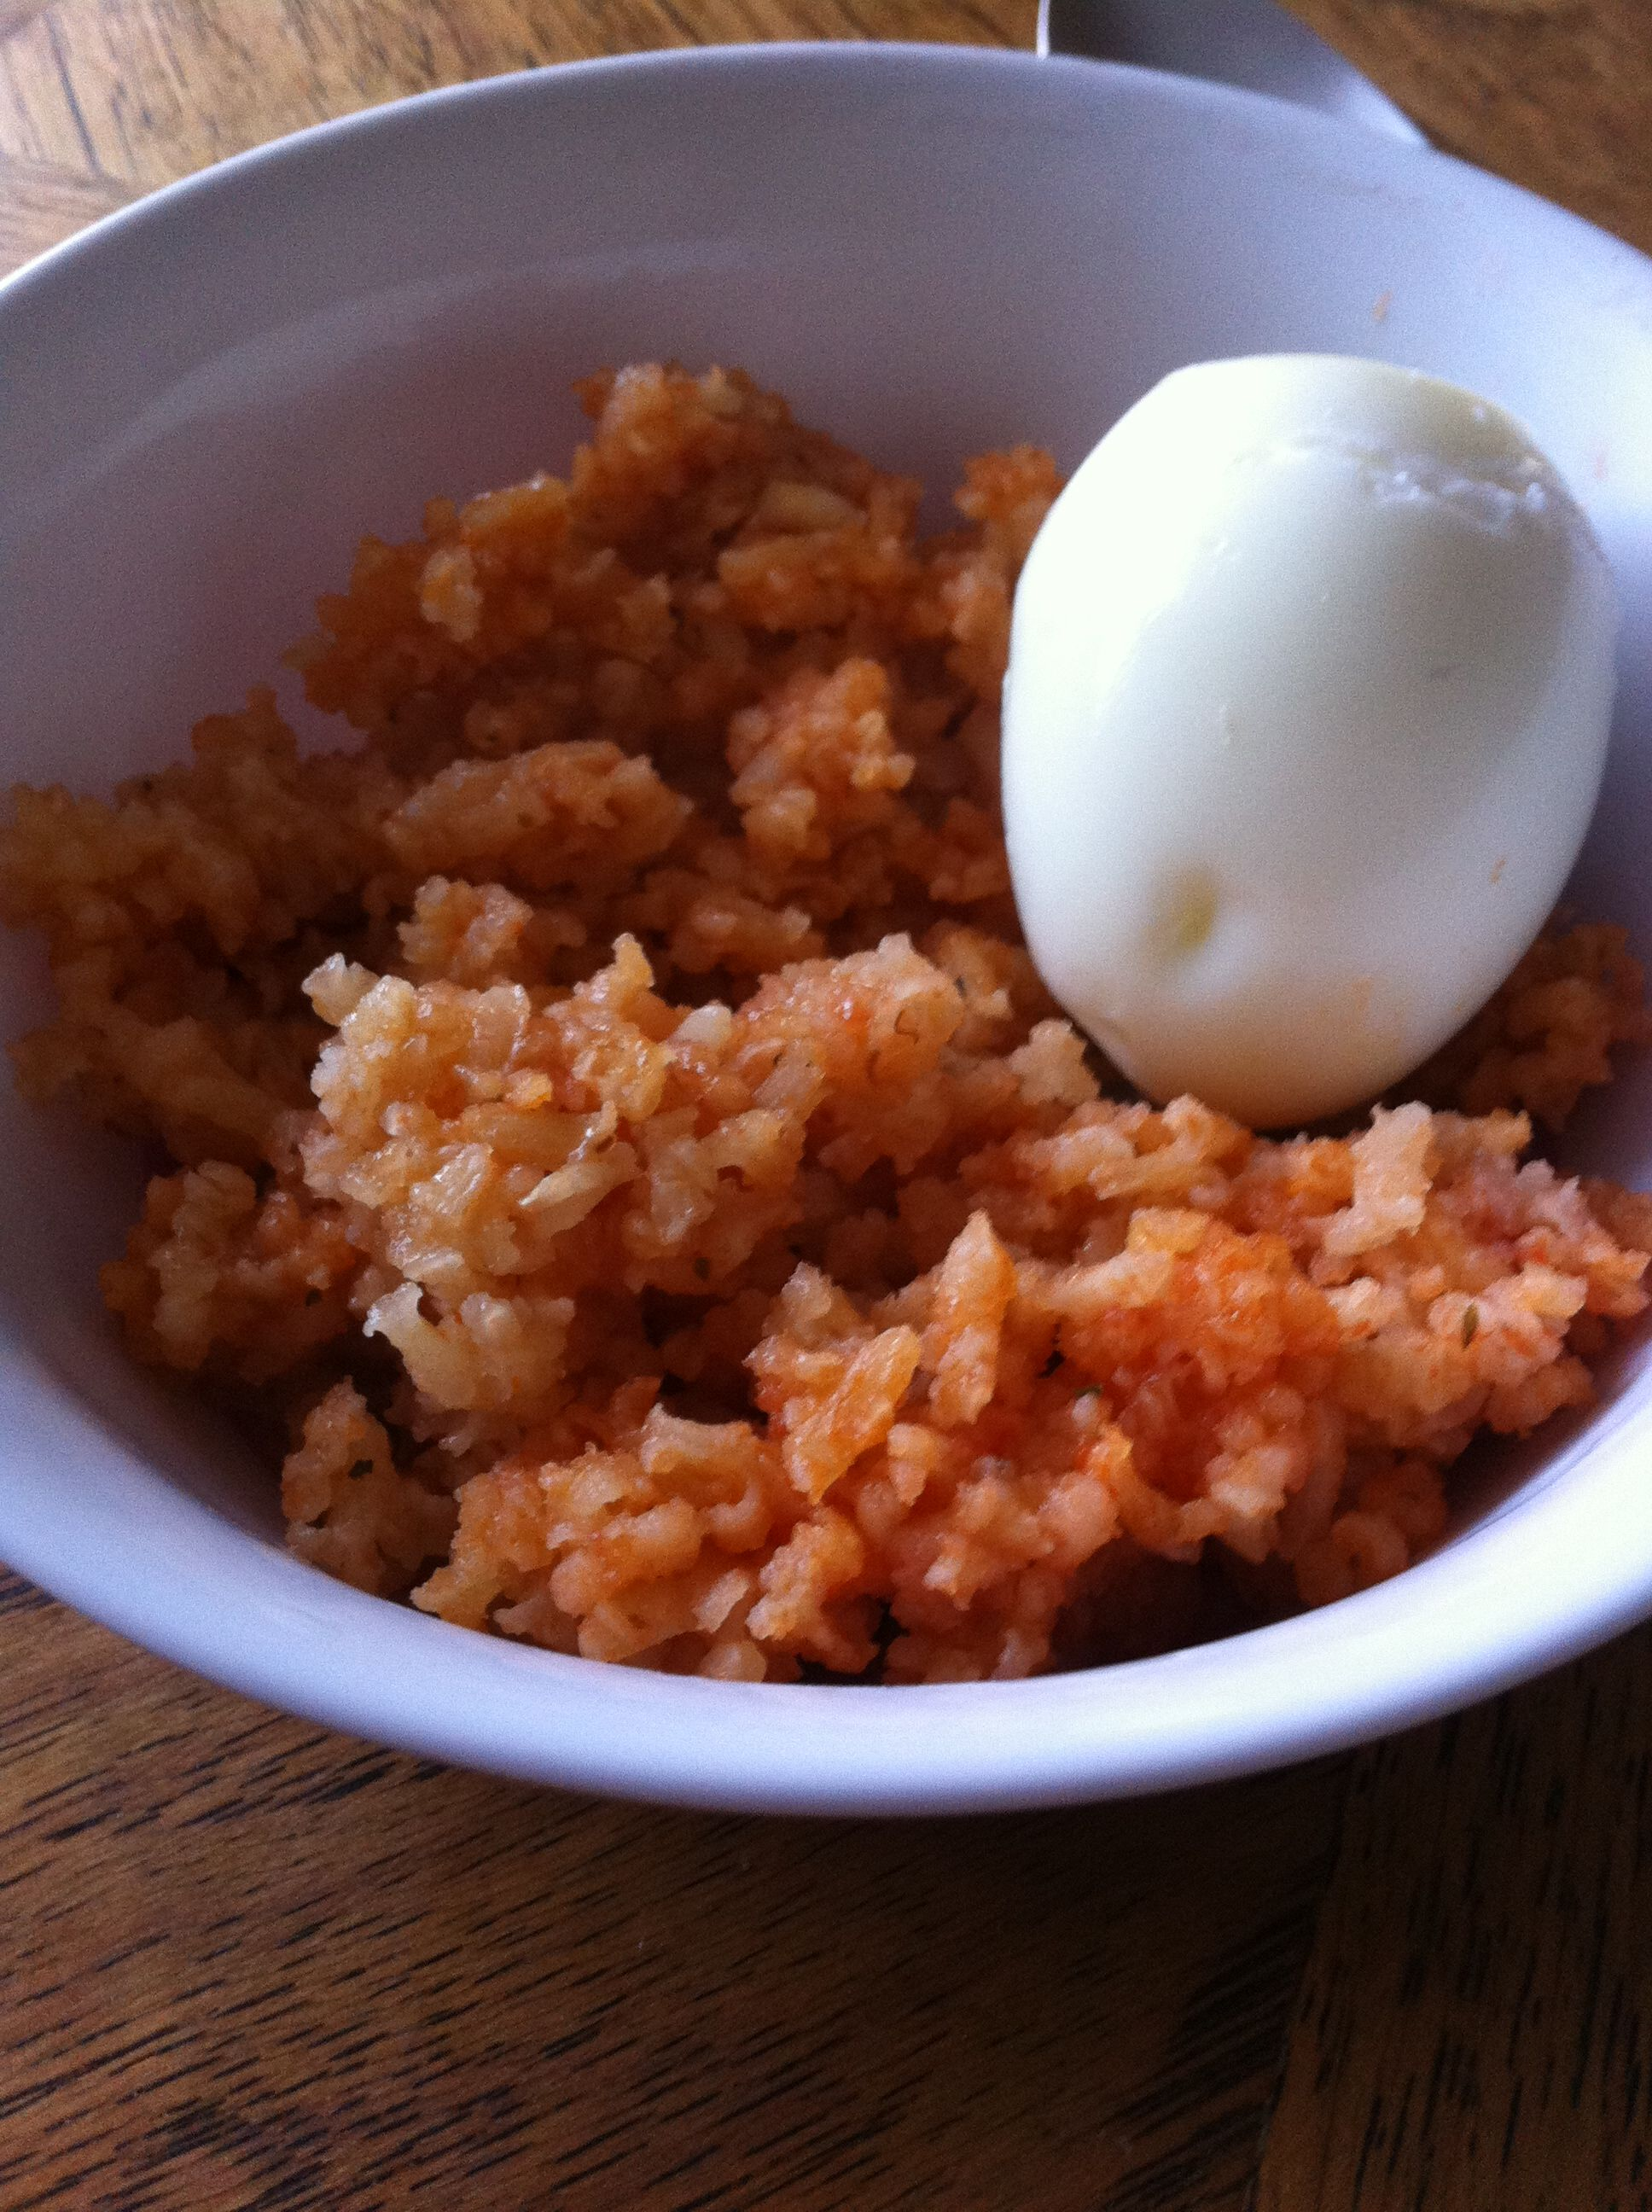egg: (963, 323, 1607, 1110)
rice: (57, 479, 1543, 1544)
